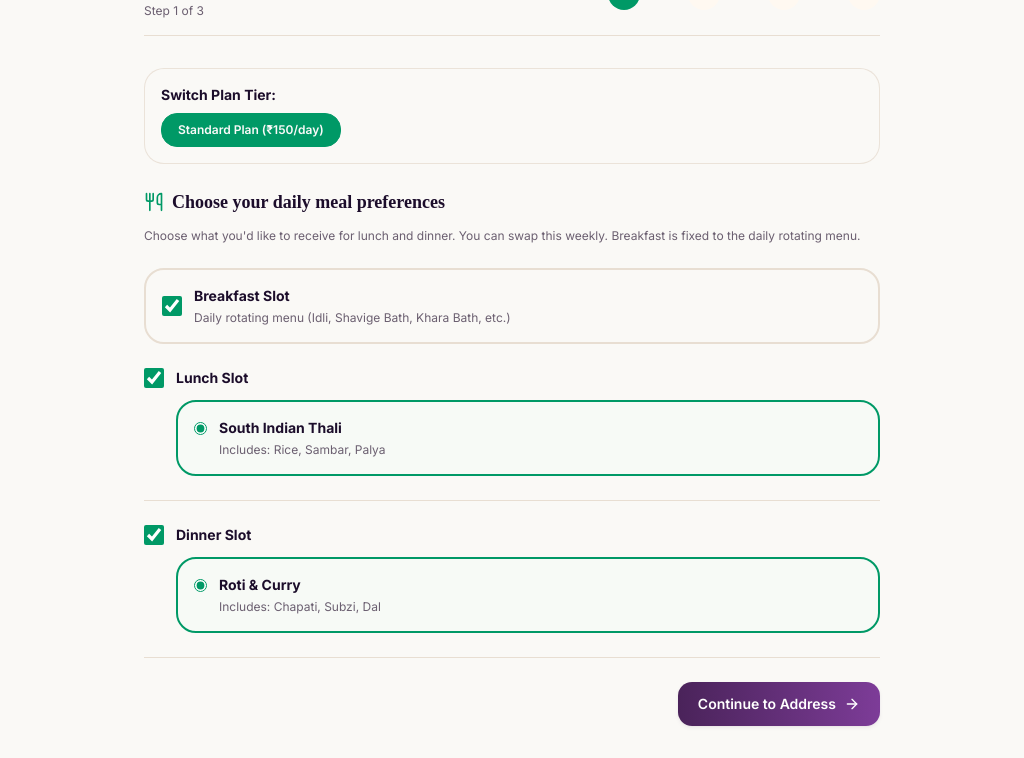
Test: Address & Pincode Confirmation UX (Part 3 & Part 8 Requirements) › an address without a pincode is displayed as undetermined serviceability and can still be selected
This screenshot has width=1024, height=758.
(page scrolled)
Click the button "Continue to Address" at (779, 704), box [678,682,880,726]
(page scrolled)
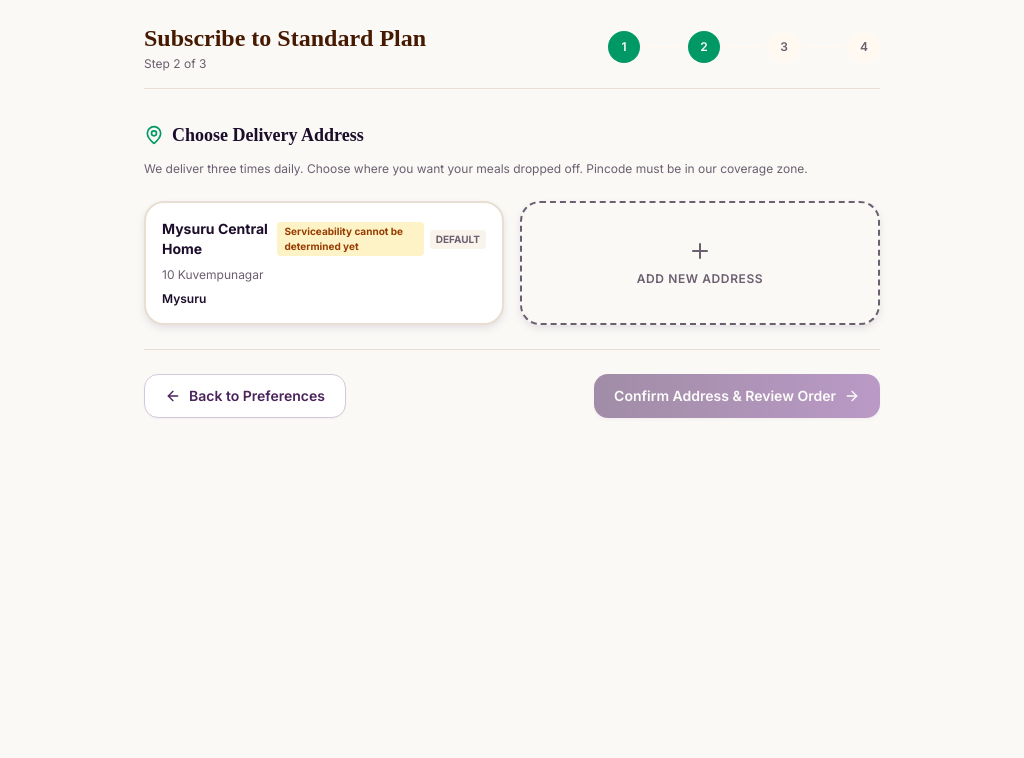
Result: the text "Serviceability cannot be determined yet" is shown at [276,222,424,256]
Result: the element with class "cursor-pointer" that starts with "Mysuru Central Home" is shown
Click the element with class "cursor-pointer" that starts with "Mysuru Central Home" at (324, 263), box [144,201,504,325]
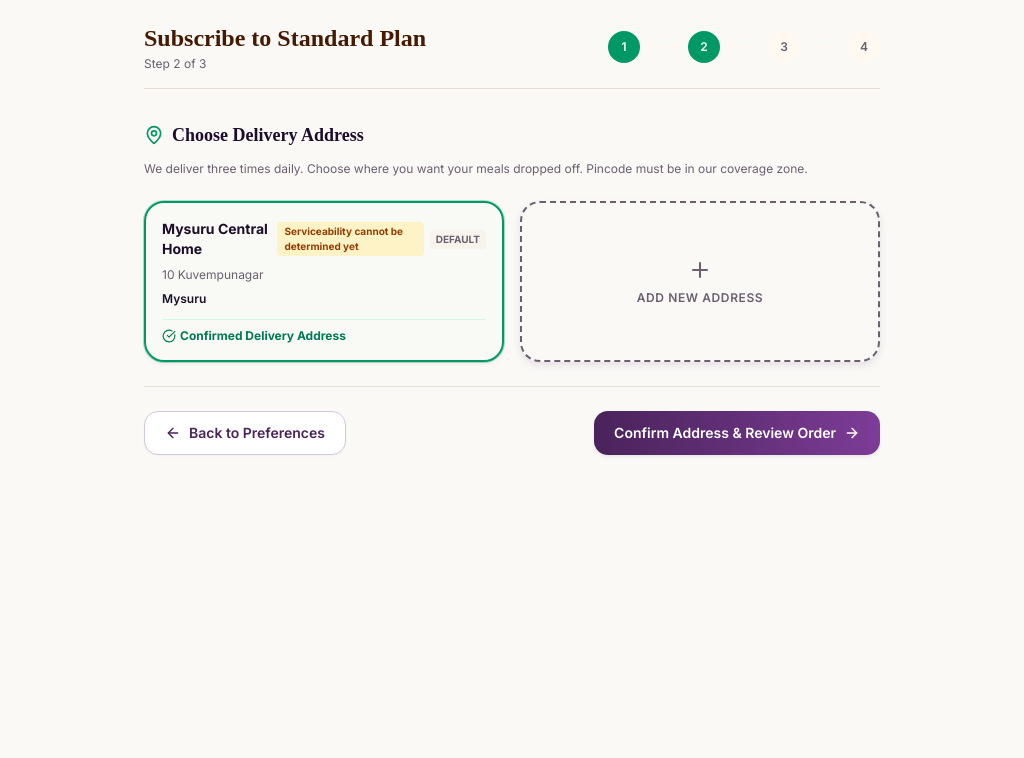
Result: the button "Confirm Address & Review Order" is enabled at [594,411,880,455]
